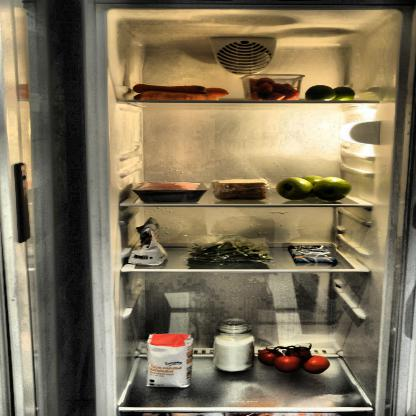apple: (276, 175, 350, 201)
carrot: (129, 84, 229, 100)
chocolate: (290, 243, 338, 265)
green_beans: (179, 231, 275, 266)
ground_beef: (131, 177, 206, 204)
lime: (305, 84, 357, 102)
strawberries: (245, 74, 299, 101)
tomato: (254, 343, 328, 376)
